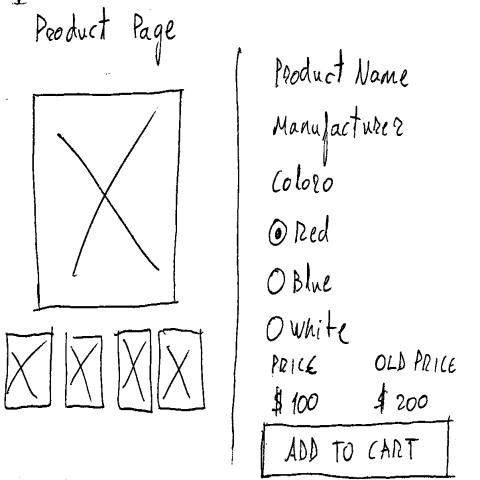Button: (260, 418, 457, 480)
Image: (30, 85, 186, 311), (157, 326, 207, 415), (5, 331, 55, 412), (112, 328, 157, 416), (63, 331, 106, 410)
Radio Button: (263, 310, 351, 346), (268, 260, 336, 299), (266, 213, 331, 248)
